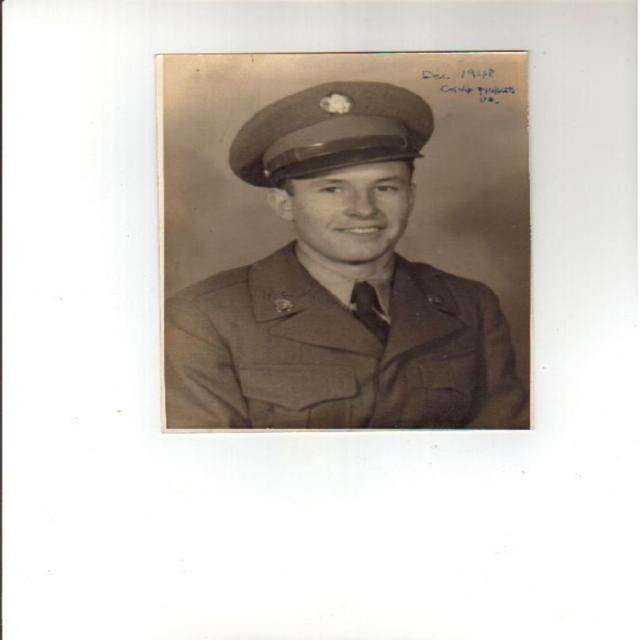Hat: (230, 82, 430, 190)
